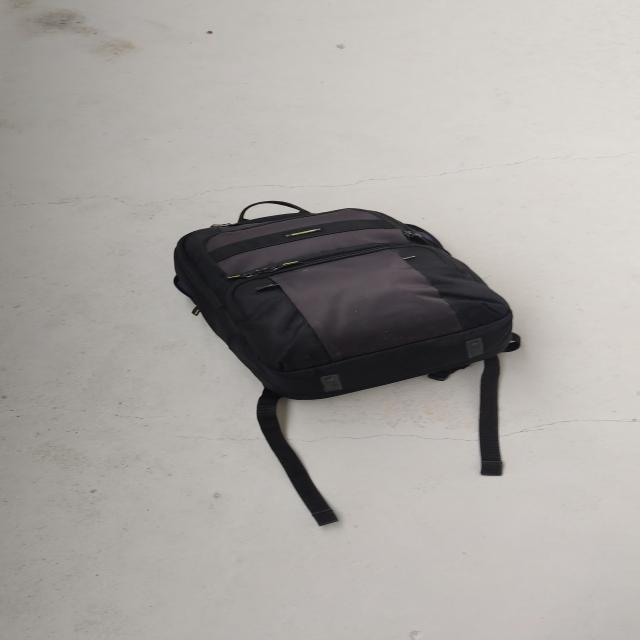backpack: (157, 195, 528, 408)
